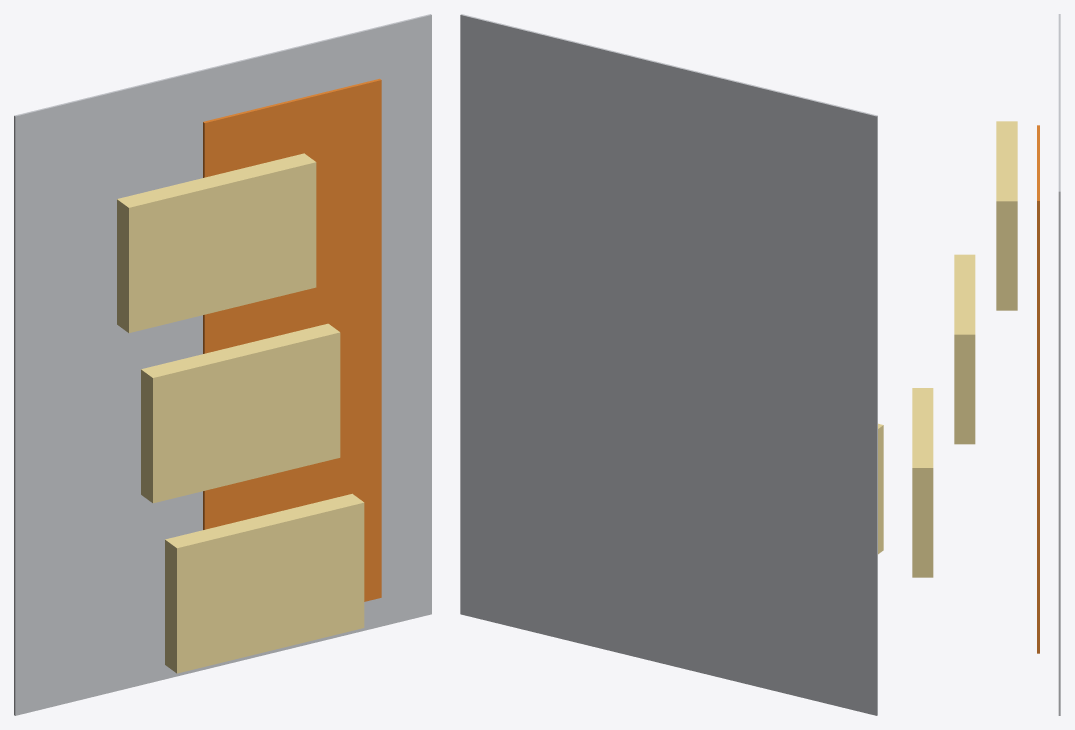
The model's file is albers.glb.
3 renders of one model, left to right at view 1: azimuth 30°, elevation 25°; view 2: azimuth 150°, elevation 25°; view 3: azimuth 270°, elevation 25°, orthographic. The views are drawn at different scales.
Parts seen in each view (by area): view 1: Background, Orange, Yellow_Top, Yellow_Mid, Yellow_Bot; view 2: Background, Yellow_Bot; view 3: Yellow_Mid, Yellow_Top, Yellow_Bot, Background, Orange.
Part boxes in pixels (x1=…): Background: x1=14, y1=14, x2=431, y2=715; Orange: x1=203, y1=78, x2=381, y2=601; Yellow_Top: x1=117, y1=153, x2=316, y2=332; Yellow_Mid: x1=141, y1=323, x2=340, y2=503; Yellow_Bot: x1=165, y1=493, x2=364, y2=673; Background: x1=460, y1=14, x2=877, y2=715; Yellow_Bot: x1=878, y1=423, x2=883, y2=554; Yellow_Mid: x1=954, y1=254, x2=975, y2=444; Yellow_Top: x1=996, y1=121, x2=1017, y2=310; Yellow_Bot: x1=912, y1=388, x2=933, y2=577; Background: x1=1058, y1=14, x2=1060, y2=715; Orange: x1=1037, y1=125, x2=1039, y2=653.
Size of the model in its own units: 8 by 11 by 2.82.
